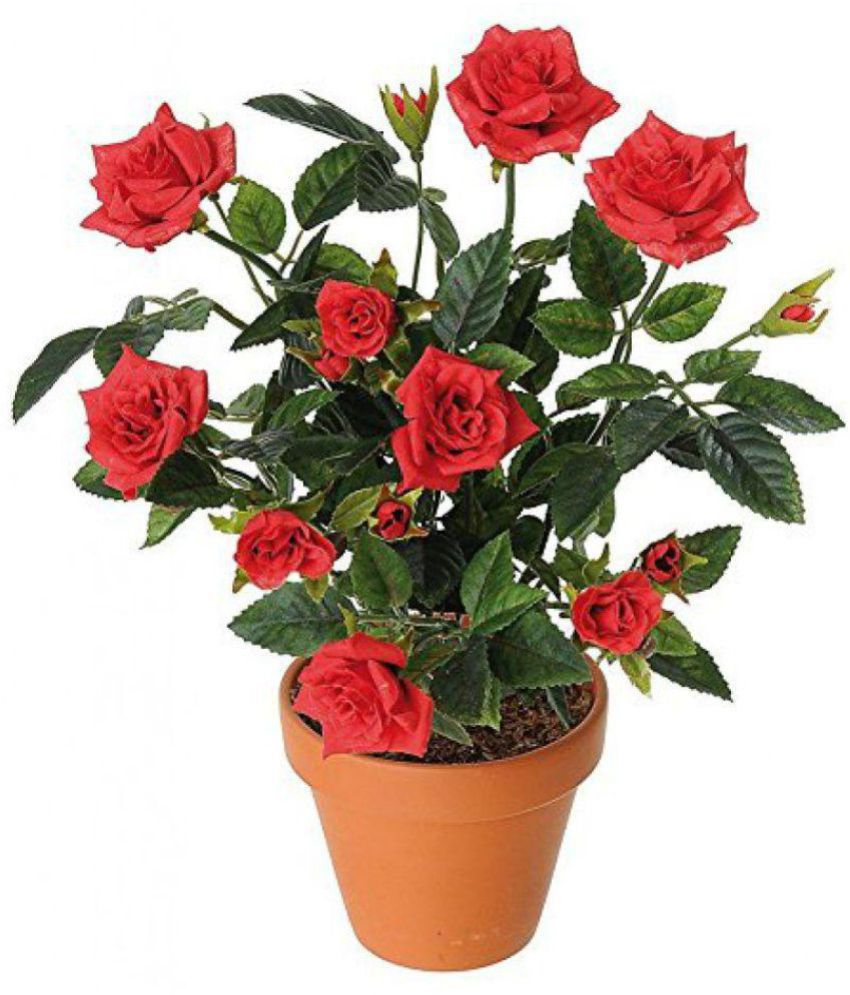plant: (9, 21, 850, 971)
